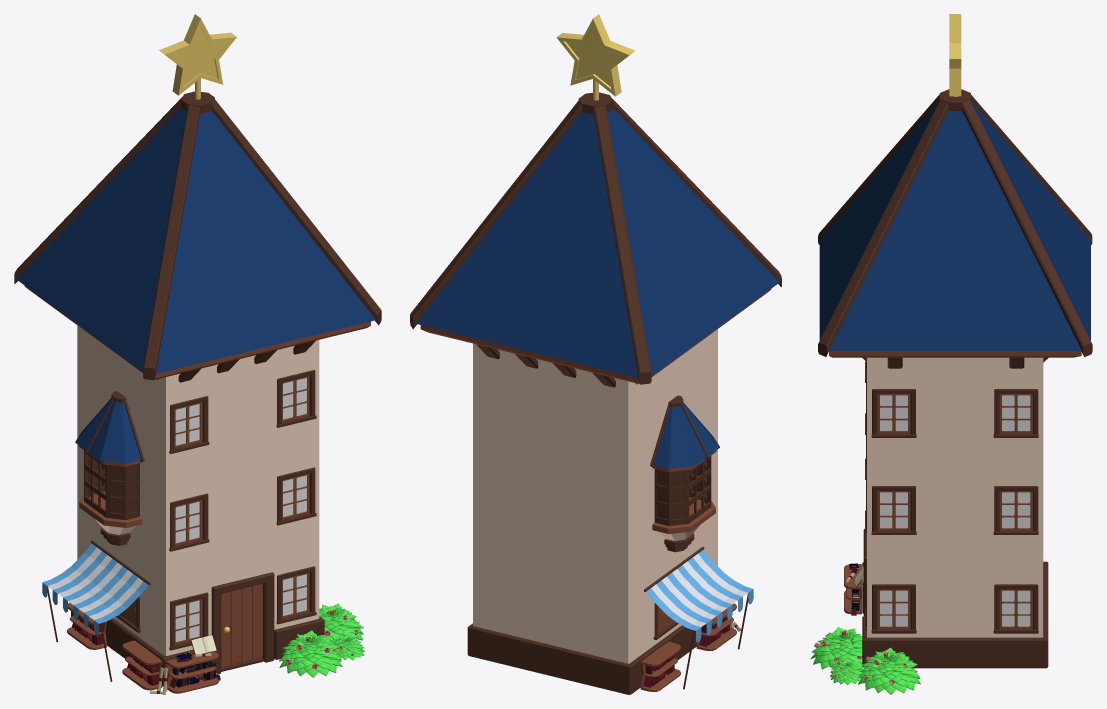
The model's file is MagicShop_Upgrade_3.fbx.
3 renders of one model, left to right at view 1: azimuth 30°, elevation 25°; view 2: azimuth 150°, elevation 25°; view 3: azimuth 270°, elevation 25°, orthographic.
Visible parts, largest first — view 1: Wall down; view 2: Wall down; view 3: Wall down.
Part boxes in pixels (x1,y1,x2,y2): Wall down: (14,14,381,694); Wall down: (410,14,781,694); Wall down: (810,14,1092,694).
Size of the model in its own units: 806 by 1866 by 770.
